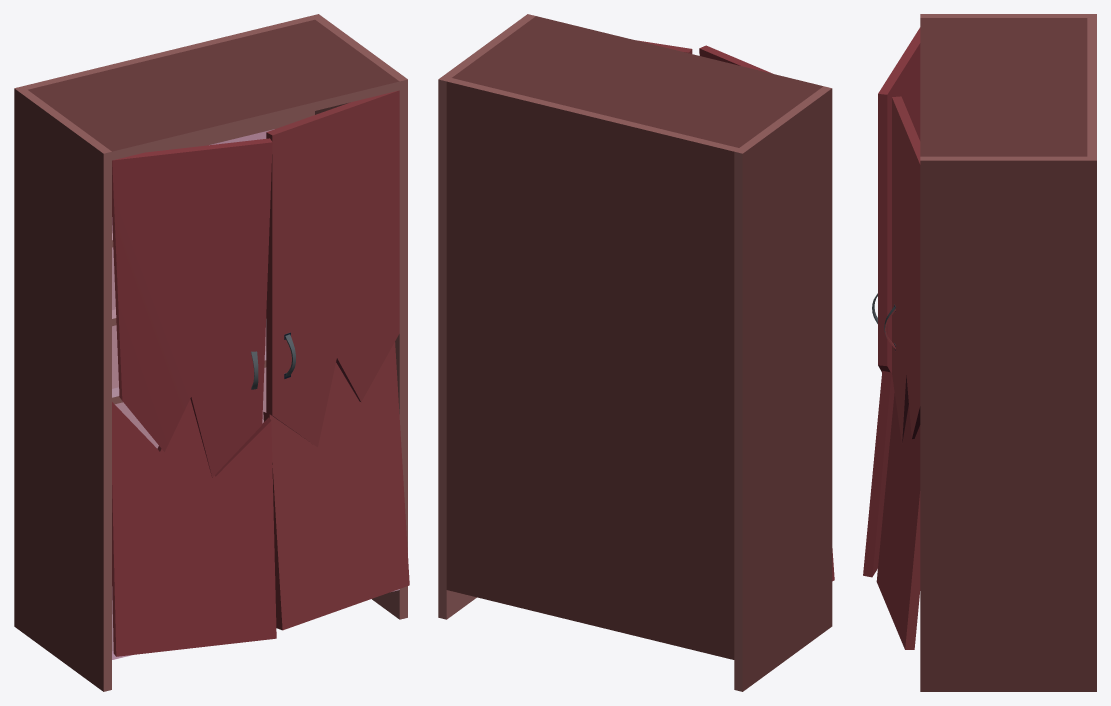
File: brokencloset.fbx
3 renders of one model, left to right at view 1: azimuth 30°, elevation 25°; view 2: azimuth 150°, elevation 25°; view 3: azimuth 270°, elevation 25°, orthographic.
Parts seen in each view (by area): view 1: closet, broken door left, broken door right; view 2: closet; view 3: closet, broken door right, broken door left.
Boxes of the visible parts, <box> form: closet: <box>14,14,407,691</box>; broken door left: <box>112,138,276,656</box>; broken door right: <box>263,90,409,630</box>; closet: <box>438,14,832,691</box>; closet: <box>920,14,1096,691</box>; broken door right: <box>876,96,920,649</box>; broken door left: <box>863,27,920,577</box>.
Size of the model in its own units: 1.5 by 2.53 by 1.01.
